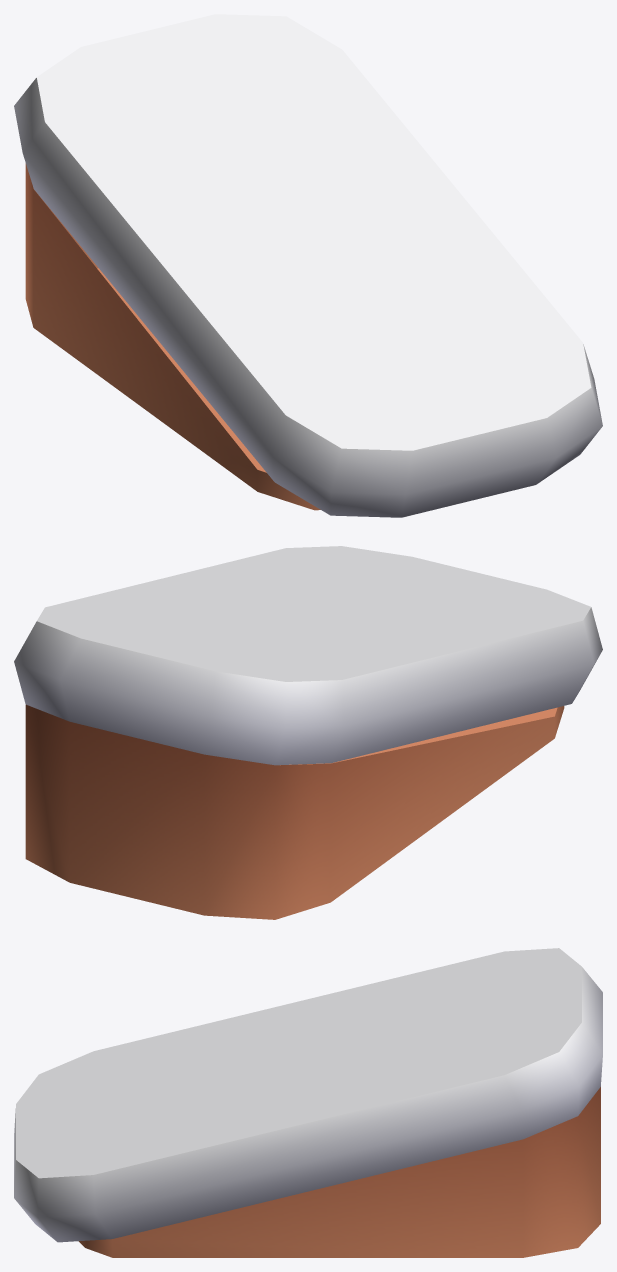
The model's file is block-snow-large-slope-narrow.glb.
3 views of the same model, one above another, from view 1: azimuth 30°, elevation 25°; view 2: azimuth 150°, elevation 25°; view 3: azimuth 270°, elevation 25° (orthographic). The views are drawn at different scales.
Parts seen in each view (by area): view 1: block-snow-large-slope-narrow; view 2: block-snow-large-slope-narrow; view 3: block-snow-large-slope-narrow.
Boxes of the visible parts, left/top/right/bottom form: block-snow-large-slope-narrow: left=14, top=14, right=602, bottom=517; block-snow-large-slope-narrow: left=14, top=546, right=602, bottom=919; block-snow-large-slope-narrow: left=14, top=948, right=602, bottom=1257.
Bounding box in the file's own units: 1.08 × 0.7591 × 2.01.
1 material, 1 textured.
